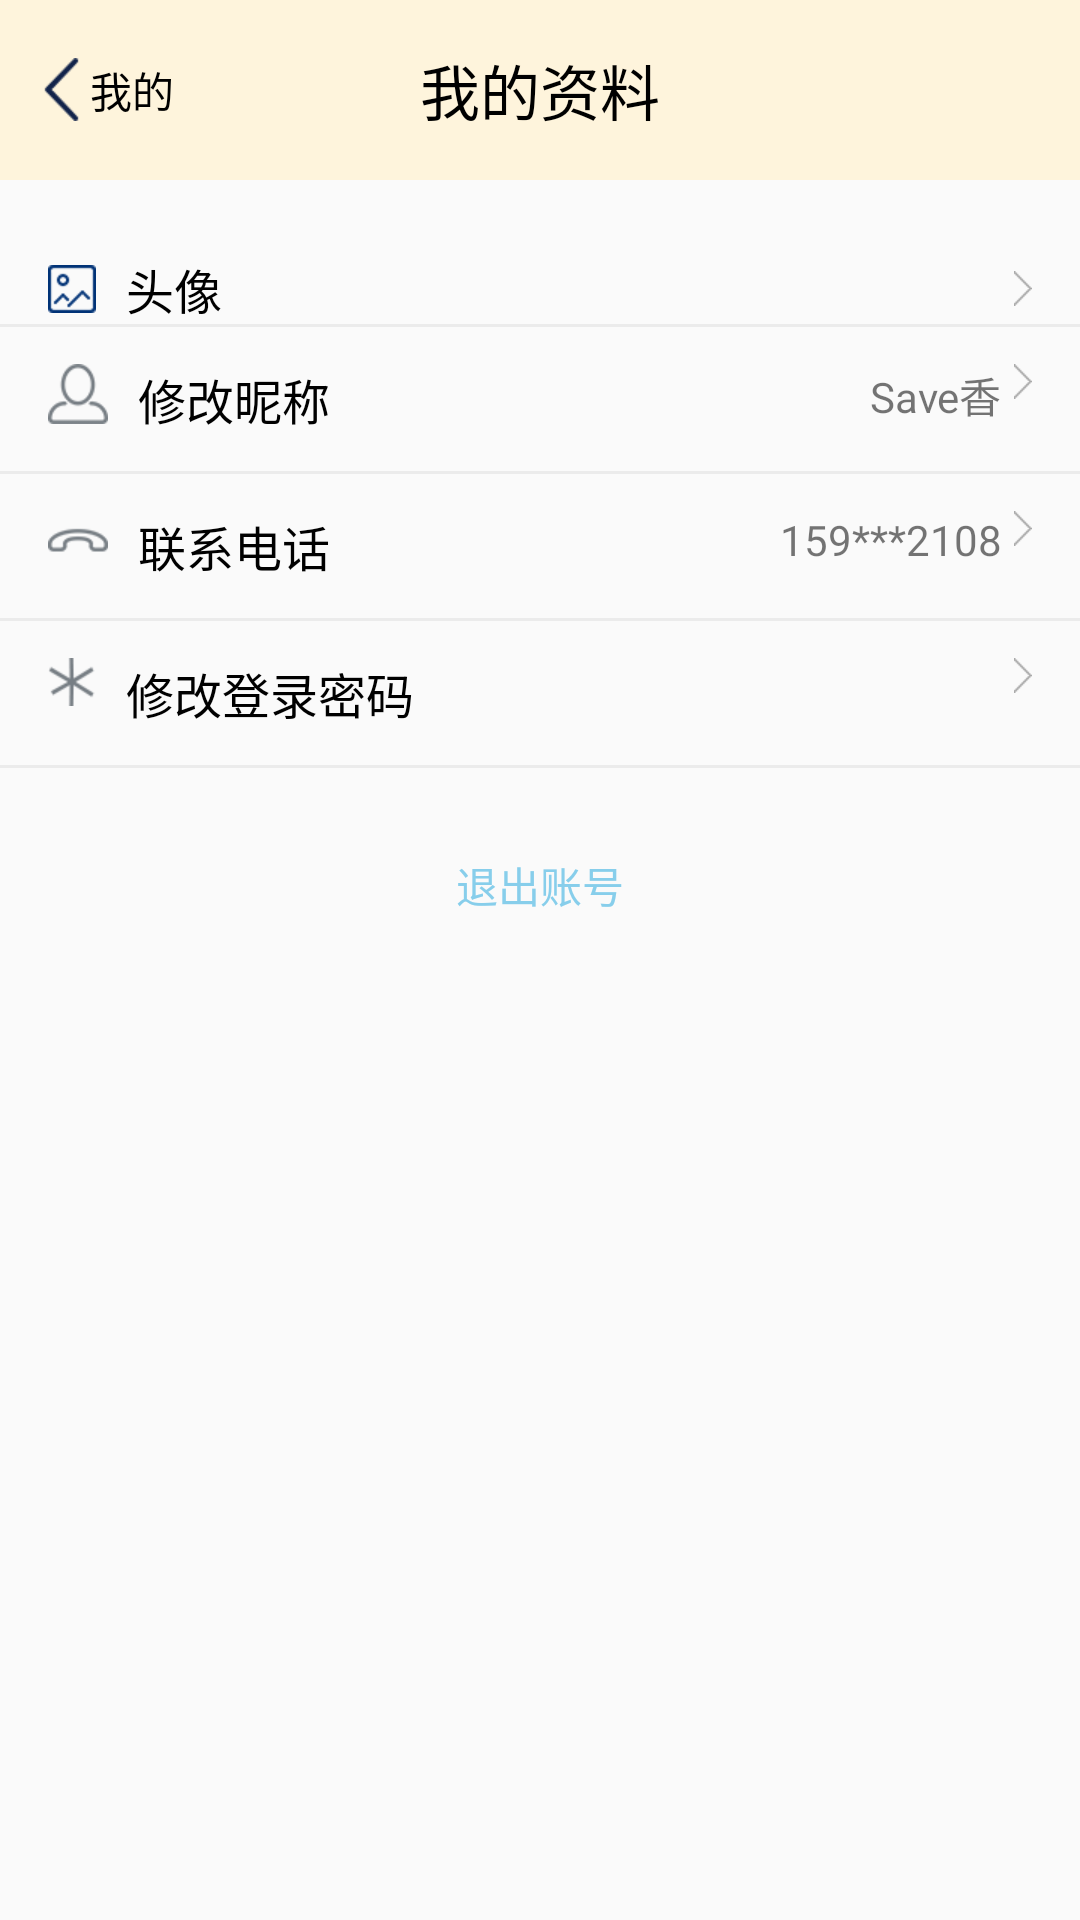

Named icons in this screenshot (1080px×1920px) and their bounding boxes, (x1,y1,x2,y2):
back: (44,58,79,121)
phone: (48,529,108,552)
